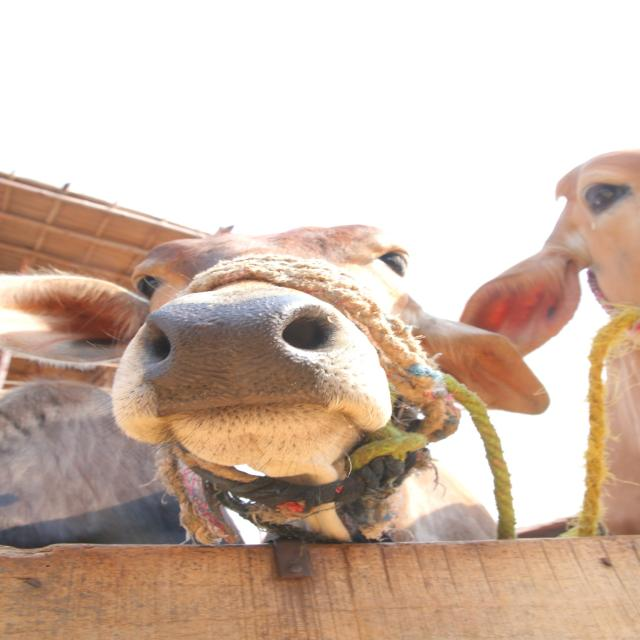muzzles: (116, 292, 366, 420)
